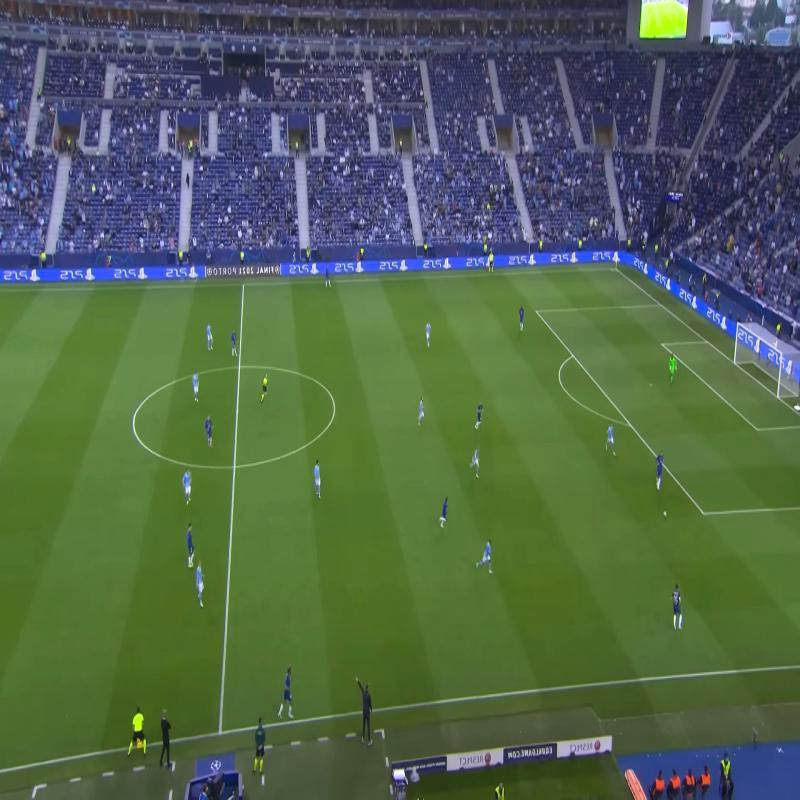1: (608, 262, 622, 276)
10: (565, 348, 580, 362)
11: (622, 418, 638, 432)
12: (696, 506, 712, 522)
13: (236, 278, 250, 292)
14: (234, 361, 246, 373)
15: (228, 460, 241, 473)
16: (212, 726, 228, 742)
2: (653, 298, 668, 313)
3: (701, 336, 713, 348)
7: (654, 336, 670, 352)
8: (750, 423, 766, 438)
9: (529, 305, 544, 318)
c: (125, 414, 140, 430), (328, 400, 342, 414)
